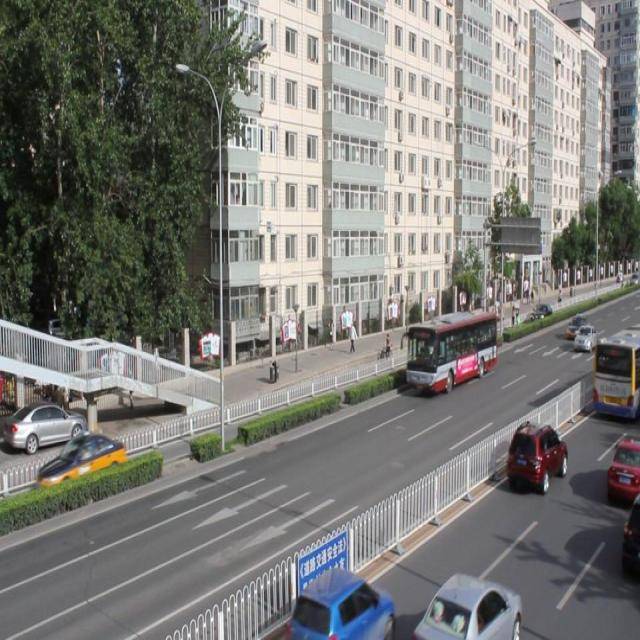car: (291, 564, 392, 640), (415, 571, 518, 640), (37, 431, 126, 491), (506, 421, 566, 489), (605, 432, 640, 500)
van: (407, 313, 497, 389), (593, 332, 640, 416)
